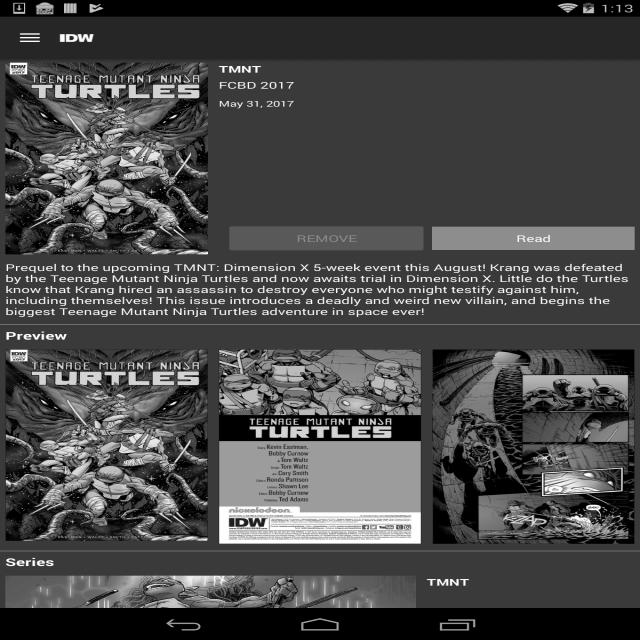Button: (225, 222, 428, 255), (432, 227, 635, 250)
ImageButton: (0, 30, 60, 46)
ImageView: (0, 59, 640, 608), (219, 350, 421, 544), (433, 350, 634, 544), (5, 63, 208, 254), (6, 350, 207, 540), (5, 575, 415, 640), (60, 27, 94, 49)
TextView: (5, 261, 635, 318), (5, 328, 635, 343), (5, 555, 635, 569), (218, 63, 634, 75), (218, 79, 634, 91), (218, 98, 634, 109), (426, 576, 634, 588), (426, 592, 634, 604)
